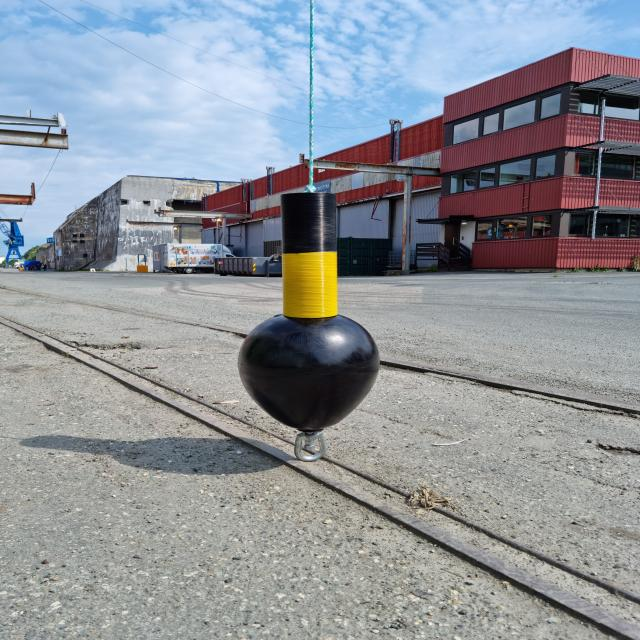east: (237, 191, 380, 433)
